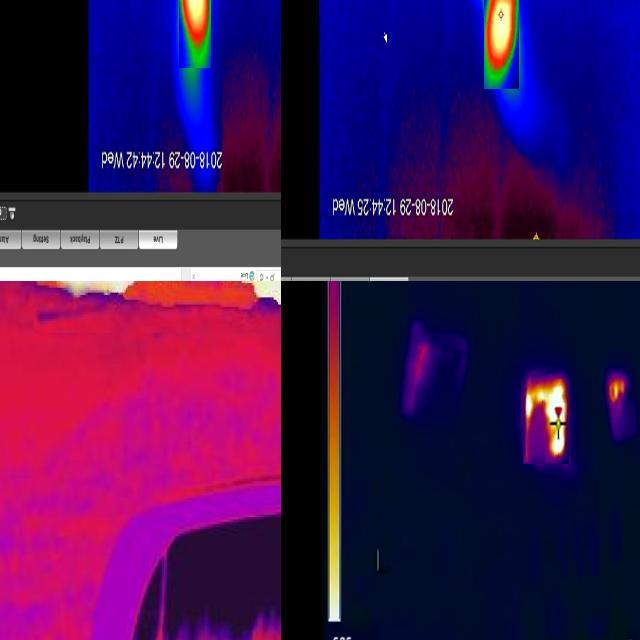fire: (524, 375, 570, 465), (485, 1, 520, 90), (180, 1, 212, 69), (607, 372, 631, 410)
